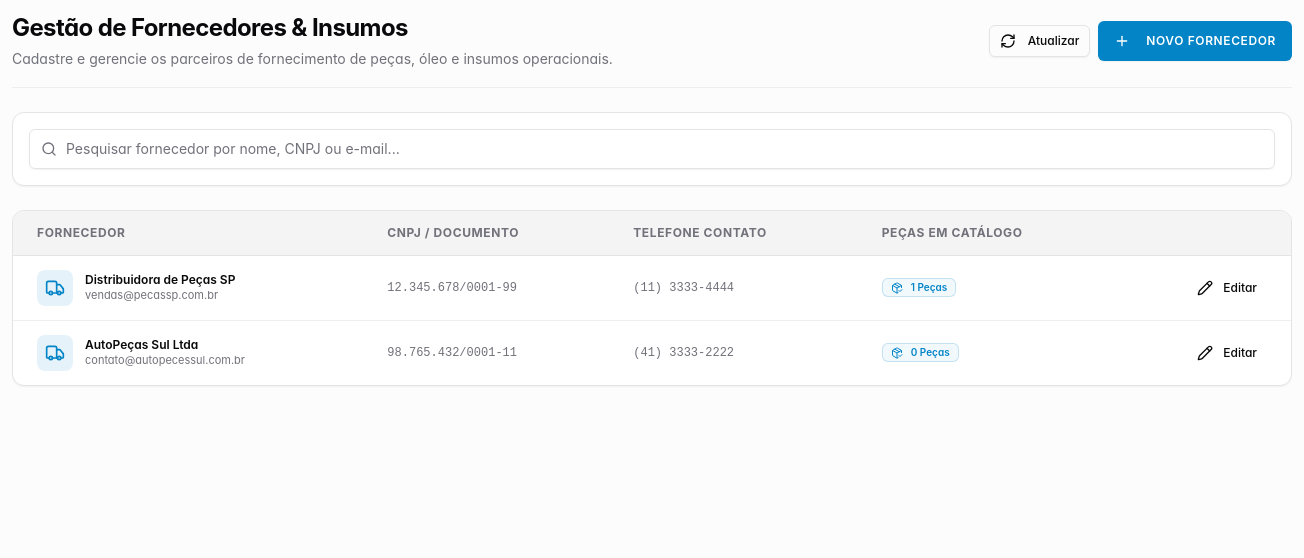
Test: Suppliers Module (Phase 1) › 8. should render empty state when search produces no matches
Expected: the text "Distribuidora de Peças SP" is shown, x1=85 y1=272 x2=235 y2=288
Type "Inexistente" into the field with placeholder "Pesquisar fornecedor por nome, CNPJ ou e-mail..." at (652, 149), box x1=29 y1=129 x2=1275 y2=169
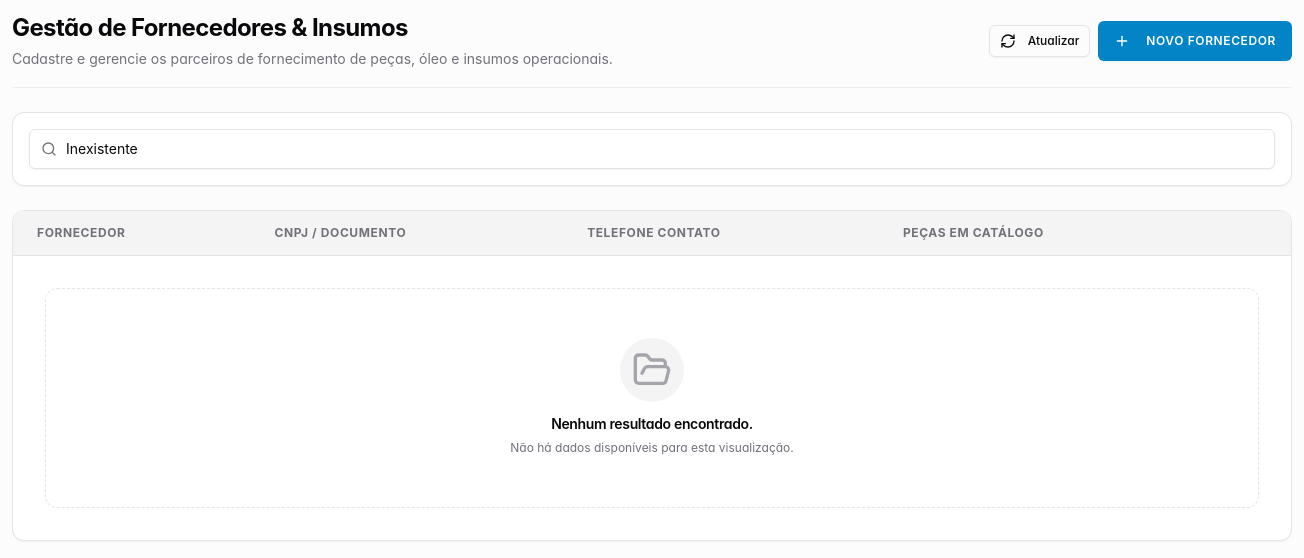
Now the text "Distribuidora de Peças SP" is gone
Now the text "AutoPeças Sul Ltda" is gone
